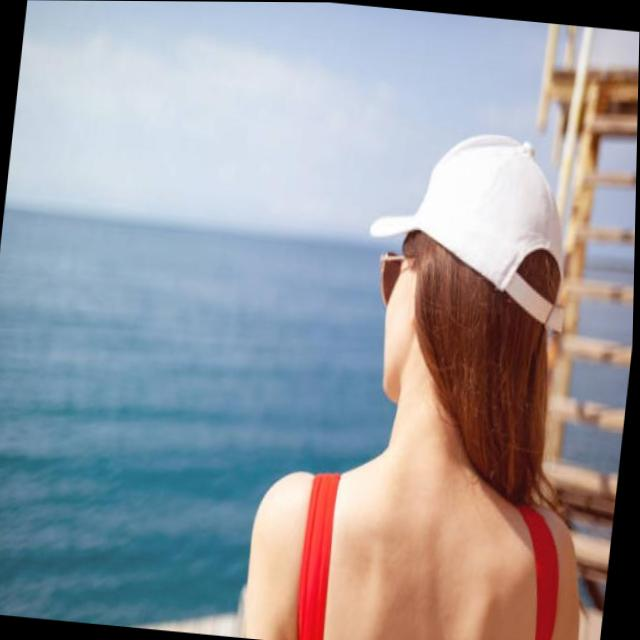no helmet: (340, 99, 596, 474)
